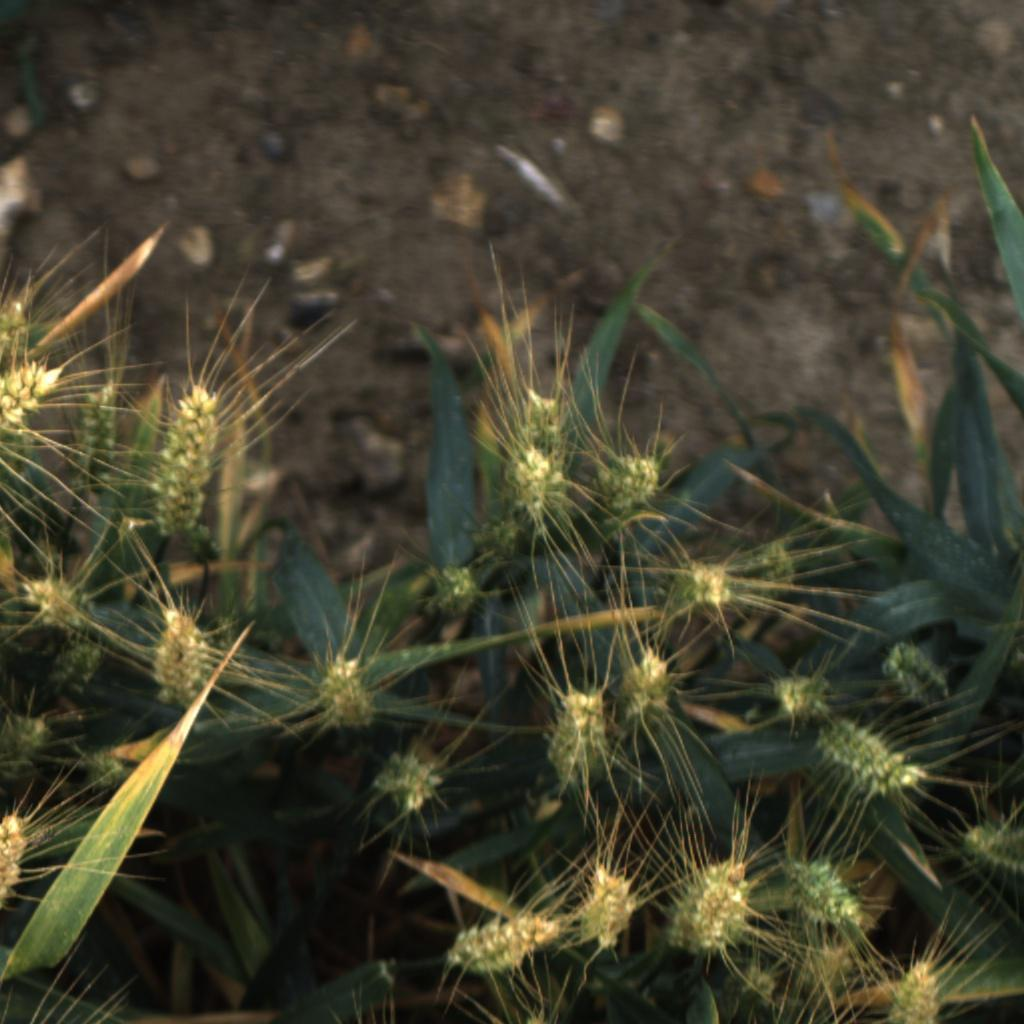0-0: (154, 380, 228, 539), (655, 856, 756, 959), (811, 710, 924, 800), (444, 905, 565, 982), (0, 347, 63, 477), (538, 679, 606, 791), (783, 852, 881, 928), (147, 592, 212, 706), (74, 374, 131, 495), (869, 631, 954, 711), (505, 444, 574, 537), (571, 862, 639, 956), (782, 935, 869, 1005), (368, 748, 457, 816), (511, 374, 580, 461), (315, 641, 376, 732), (8, 565, 102, 624), (588, 447, 665, 519), (611, 647, 683, 724), (668, 547, 739, 620), (741, 535, 808, 606), (885, 954, 952, 1024), (767, 661, 829, 732), (44, 637, 111, 701), (959, 816, 1024, 880), (0, 809, 37, 920), (416, 559, 482, 612), (77, 743, 135, 800), (465, 506, 522, 564), (0, 708, 54, 768), (0, 289, 37, 376), (742, 964, 781, 1005)
